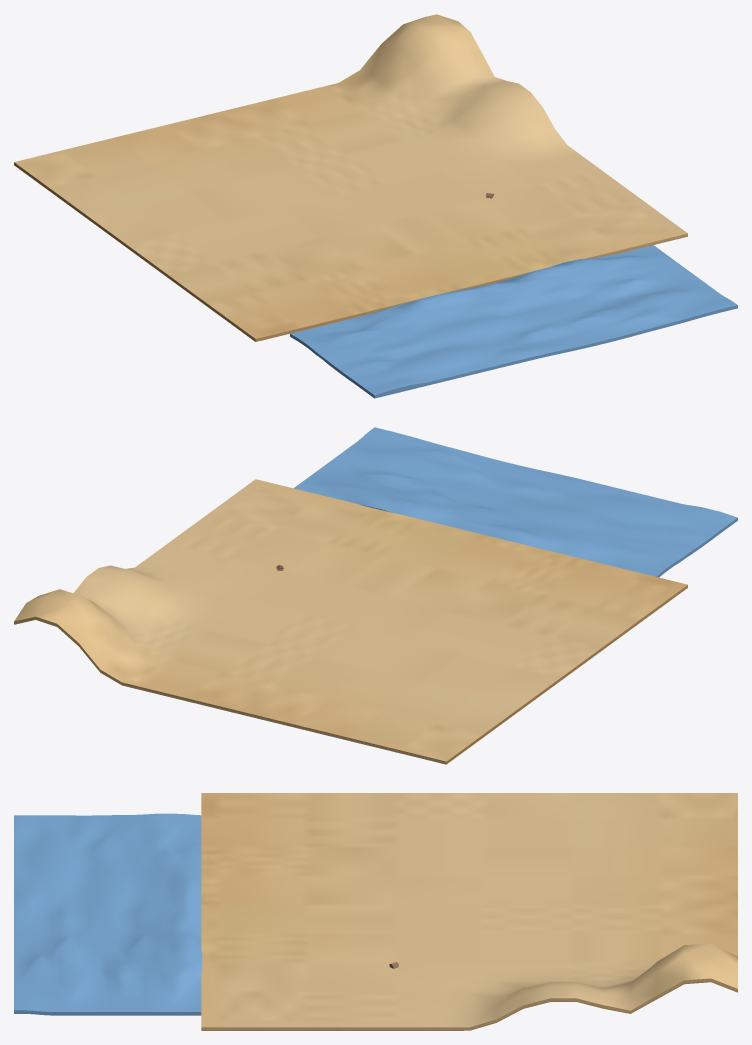
File: Environment.fbx
3 views of the same model, one above another, from view 1: azimuth 30°, elevation 25°; view 2: azimuth 150°, elevation 25°; view 3: azimuth 270°, elevation 25° (orthographic). The views are drawn at different scales.
Parts seen in each view (by area): view 1: pCube22, Water; view 2: pCube22, Water; view 3: pCube22, Water.
Part boxes in pixels (<box>): pCube22: <box>14,14,687,341</box>; Water: <box>290,245,737,398</box>; pCube22: <box>14,479,687,764</box>; Water: <box>294,427,737,577</box>; pCube22: <box>201,793,737,1030</box>; Water: <box>14,813,202,1015</box>.
Bounding box in the file's own units: 1984 × 282 × 2592.
Materials: 11 (1 with a texture image).
